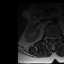CCS_normal: (51, 34, 53, 44)
LFS_stenosis: (55, 34, 57, 41)
LLS_normal: (53, 34, 55, 42)
RFS_normal: (47, 34, 49, 40)
RLS_normal: (49, 34, 51, 41)
